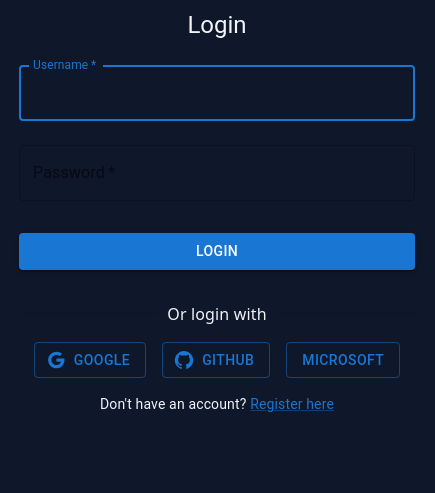
Test: LoginPage › surfaces the API failure when the API rejects with an Error with a message
The image size is (435, 493).
In the field labelled "Username *": [217, 93] box x1=19 y1=65 x2=415 y2=121, type "Ada"
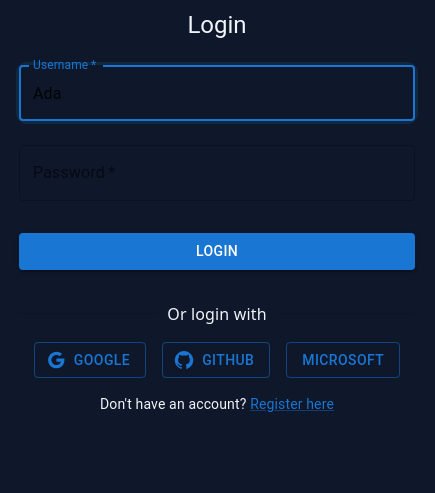
In the password field labelled "Password *": [217, 173] box x1=19 y1=145 x2=415 y2=201, type "wrong-password"
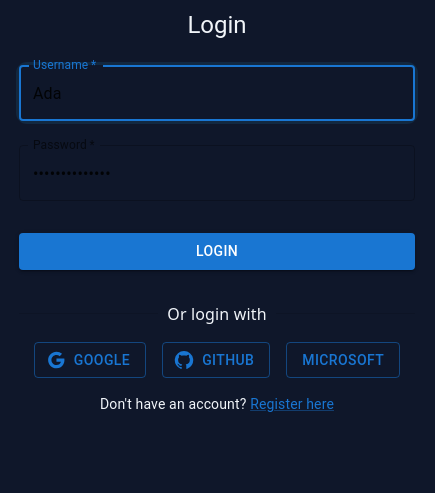
Click the button "Login": [217, 251] box x1=19 y1=233 x2=415 y2=270
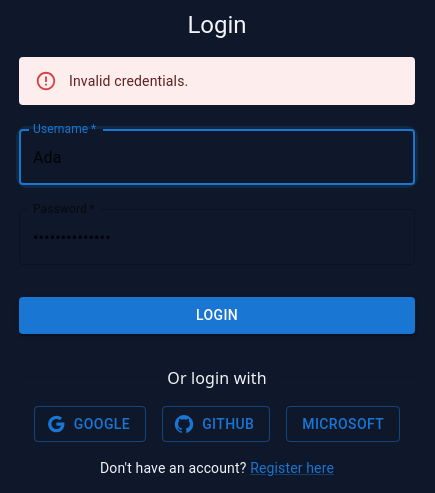
Now the message reads "Invalid credentials.", box x1=69 y1=73 x2=188 y2=89
